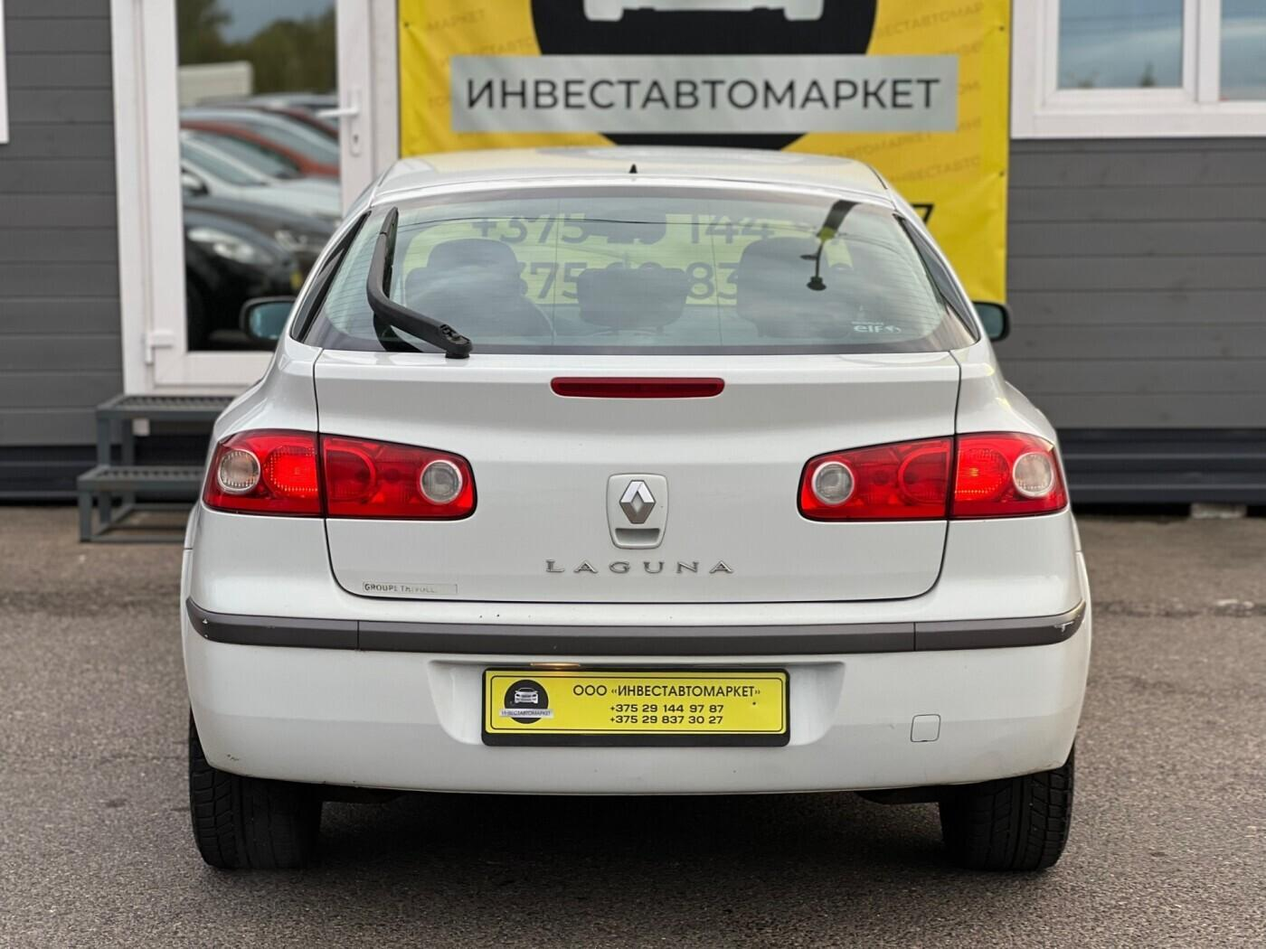Laguna_2005-2007: (167, 137, 1095, 900)
